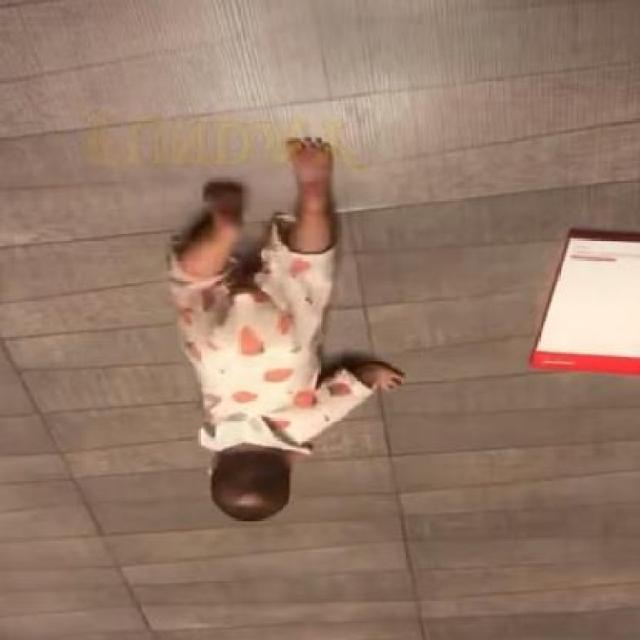baby: (163, 136, 403, 524)
